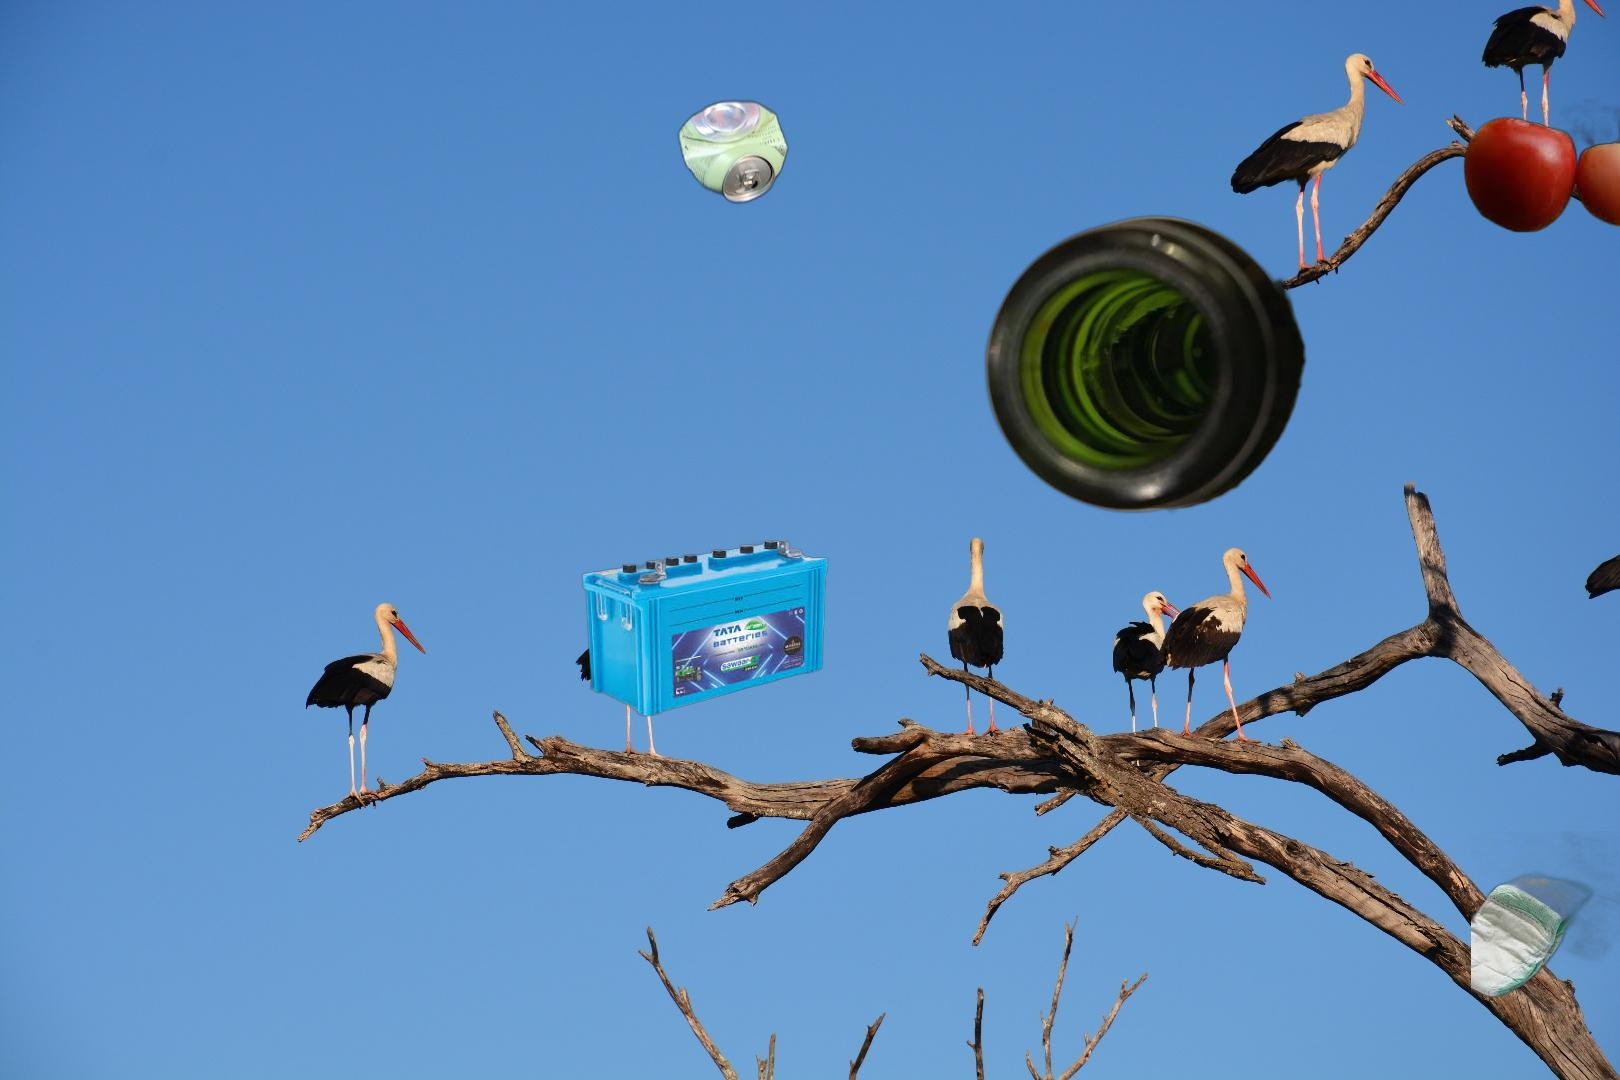battery: (579, 540, 830, 720)
biological: (1461, 95, 1620, 235)
glass: (981, 213, 1310, 517)
metal-cans: (626, 94, 956, 664)
trash: (1471, 830, 1620, 1014)
